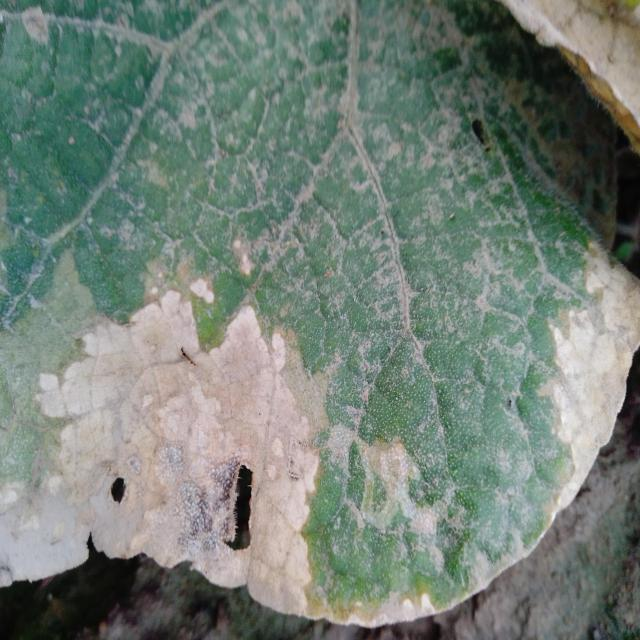cucumber_anthracnose: (9, 76, 621, 564)
